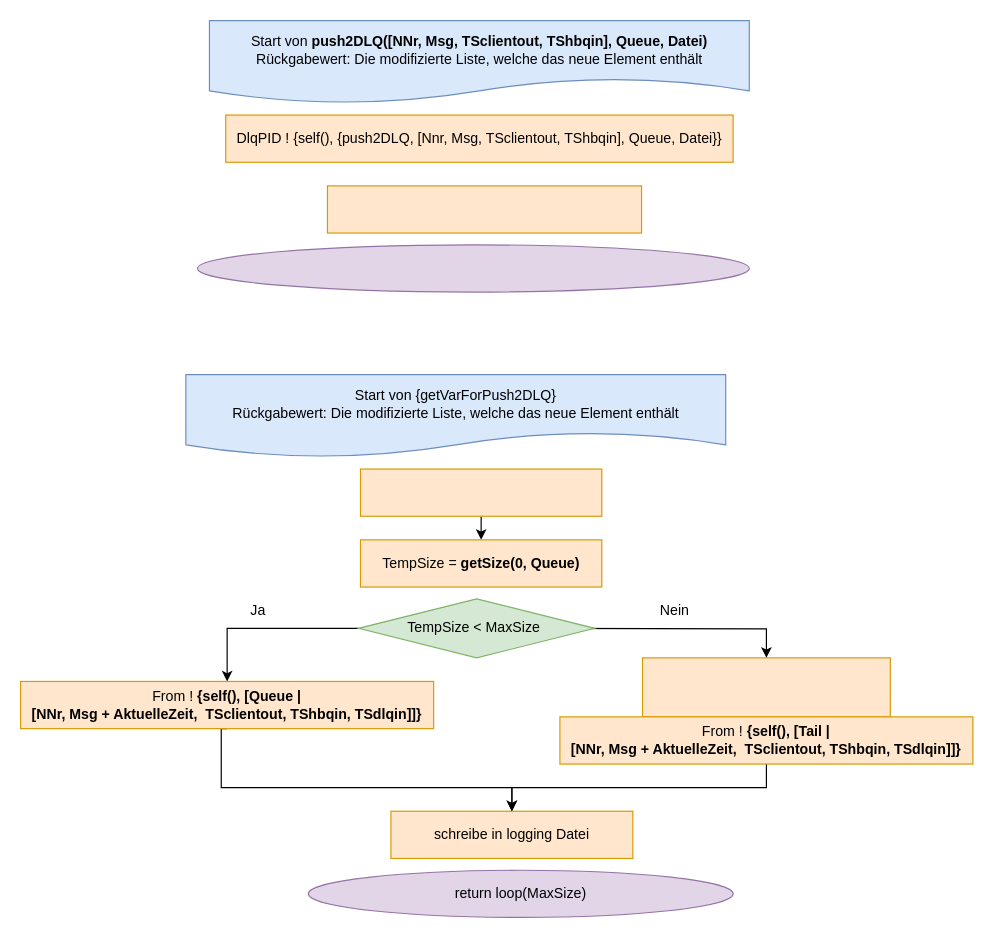
Image size: 994x938. Some labels were removed from this diagram. The shapes that lost their labels are listed below. From the top down, each one's centre as x and y in pixels, then its label:
[484,209]: receive {Pid, newQueue}
[472,268]: return newQueue
[480,492]: TSdlqin = erlang:timestamp()
[765,687]: Teile Queue in 1. Element = Head und Rest = Tail auf
